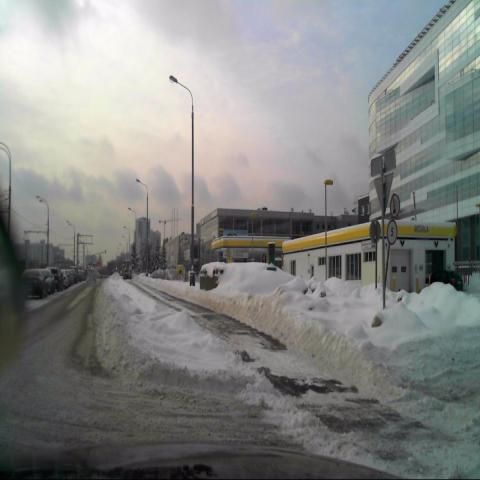3_24: (386, 220, 398, 246)
